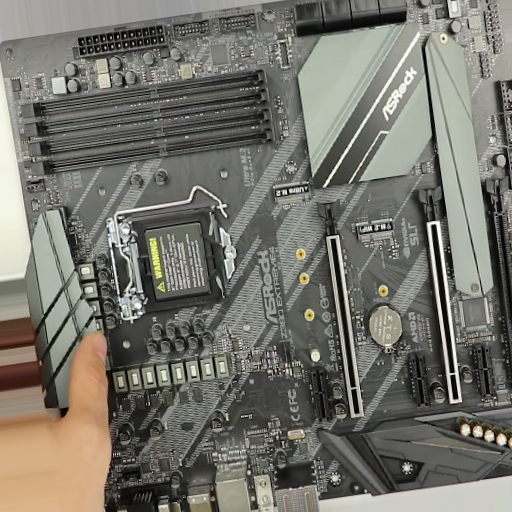CPU: (118, 212, 240, 310)
GPU: (414, 184, 466, 405), (316, 198, 366, 421), (482, 175, 512, 401)
MOTHERBOARD: (4, 1, 510, 510)
RAM: (20, 71, 276, 178)
SSD: (355, 218, 397, 245), (271, 181, 313, 206)
